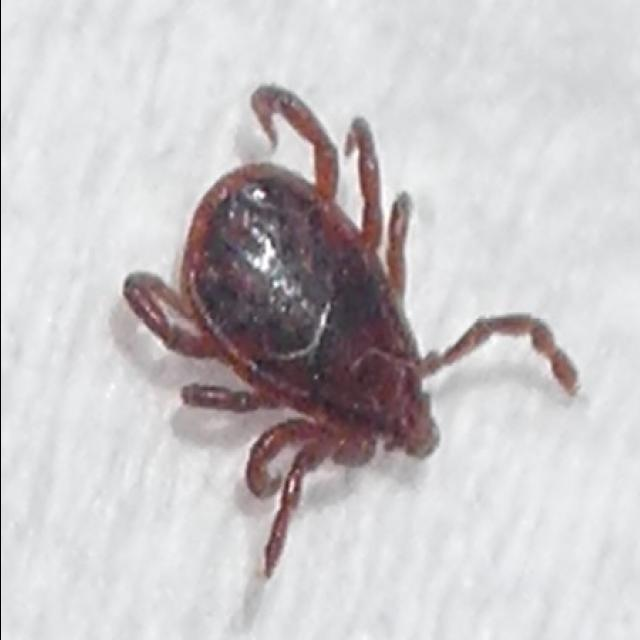Rhipicephalus Sanguineus-M: (119, 84, 579, 581)
